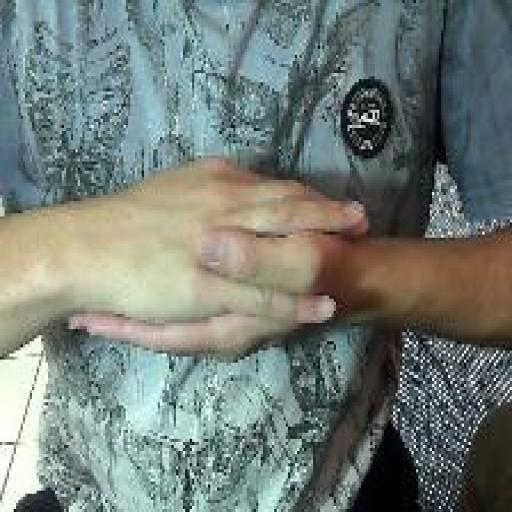Saru -monkey-: (60, 149, 374, 369)
